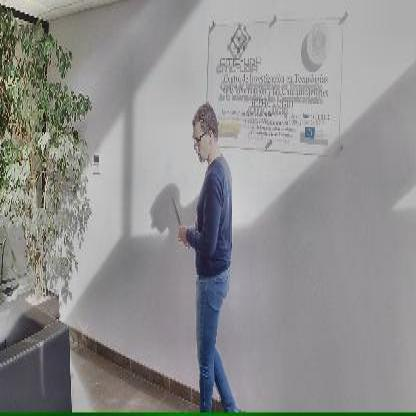knife: (169, 189, 185, 238)
